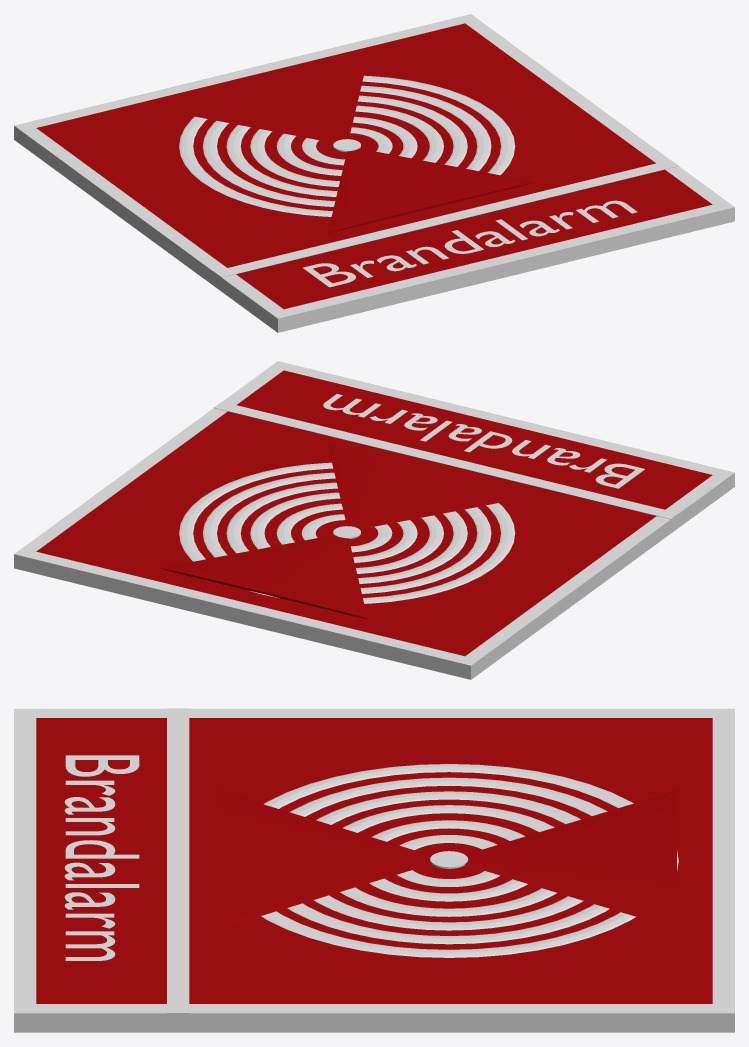
File: BrandalarmSkilt.fbx
3 views of the same model, one above another, from view 1: azimuth 30°, elevation 25°; view 2: azimuth 150°, elevation 25°; view 3: azimuth 270°, elevation 25° (orthographic). The views are drawn at different scales.
Parts seen in each view (by area): view 1: Cube.001, Cube.009, Cone.001, Cone, Cube, Torus.006, Torus.005, Text, Torus.004, Torus.003, Torus.002, Cube.003 (+1 smaller); view 2: Cube.001, Cube.009, Cone, Cone.001, Cube, Torus.006, Torus.005, Text, Torus.004, Torus.003, Torus.002, Cube.003 (+1 smaller); view 3: Cube.001, Cube.009, Cone, Cone.001, Torus.006, Cube, Torus.005, Text, Torus.004, Torus.003, Torus.002, Cube.003 (+2 smaller).
Part boxes in pixels (<box>): Cube.001: <box>36,23,712,309</box>; Cube.009: <box>14,14,734,332</box>; Cone.001: <box>160,59,367,142</box>; Cone: <box>328,148,535,232</box>; Cube: <box>213,160,678,291</box>; Torus.006: <box>179,75,515,216</box>; Torus.005: <box>203,85,491,206</box>; Text: <box>303,200,637,287</box>; Torus.004: <box>226,95,467,196</box>; Torus.003: <box>250,105,443,186</box>; Torus.002: <box>276,116,417,175</box>; Cube.003: <box>300,127,403,167</box>; Cube.001: <box>36,370,712,656</box>; Cube.009: <box>14,361,734,679</box>; Cone: <box>328,445,535,529</box>; Cone.001: <box>160,535,367,618</box>; Cube: <box>214,401,678,519</box>; Torus.006: <box>179,462,515,603</box>; Torus.005: <box>203,472,491,593</box>; Text: <box>323,394,644,488</box>; Torus.004: <box>226,482,467,583</box>; Torus.003: <box>250,492,443,573</box>; Torus.002: <box>276,503,417,562</box>; Cube.003: <box>291,511,399,550</box>; Cube.001: <box>36,718,712,1003</box>; Cube.009: <box>14,708,734,1032</box>; Cone: <box>217,790,432,928</box>; Cone.001: <box>465,790,676,928</box>; Torus.006: <box>261,764,678,957</box>; Cube: <box>167,708,189,1031</box>; Torus.005: <box>287,777,609,944</box>; Text: <box>64,755,139,960</box>; Torus.004: <box>313,791,583,930</box>; Torus.003: <box>340,805,556,916</box>; Torus.002: <box>369,820,527,901</box>; Cube.003: <box>400,837,481,891</box>.
Size of the model in its own units: 200 by 6.93 by 200.
